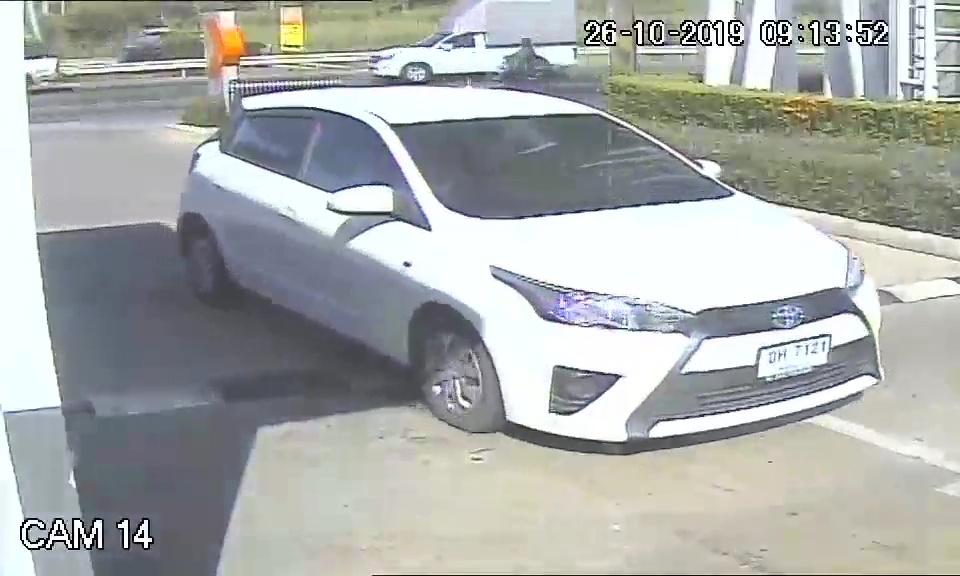sedan: (174, 87, 892, 449)
